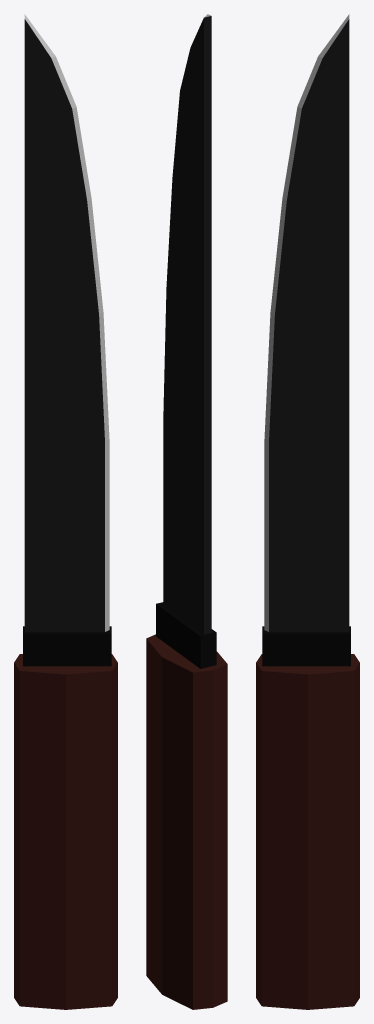
Rendered from Tanto.obj.
3 views of the same model, side by side, from view 1: azimuth 90°, elevation 25°; view 2: azimuth 210°, elevation 25°; view 3: azimuth 270°, elevation 25° (orthographic).
Parts seen in each view (by area): view 1: Tanto_Plane.004; view 2: Tanto_Plane.004; view 3: Tanto_Plane.004.
Part boxes in pixels (<box>): Tanto_Plane.004: <box>14,14,117,1009</box>; Tanto_Plane.004: <box>146,14,227,1009</box>; Tanto_Plane.004: <box>256,14,359,1009</box>.
Bounding box in the file's own units: 0.02 × 0.3813 × 0.0365.
